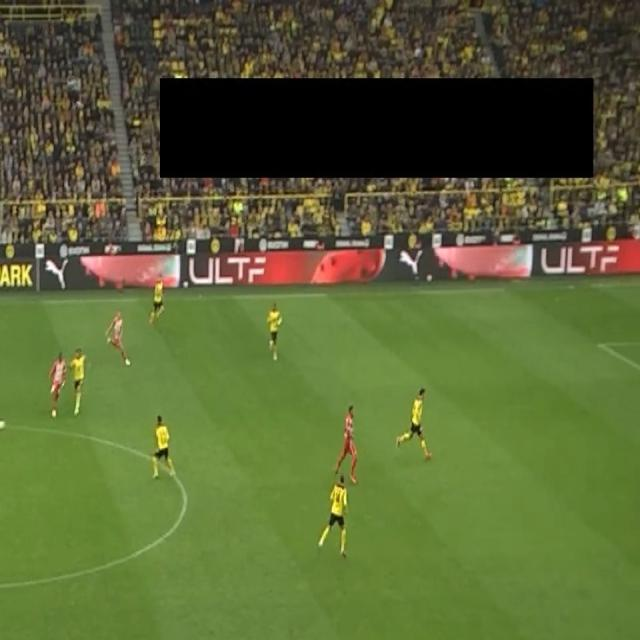ball: (0, 417, 5, 431)
